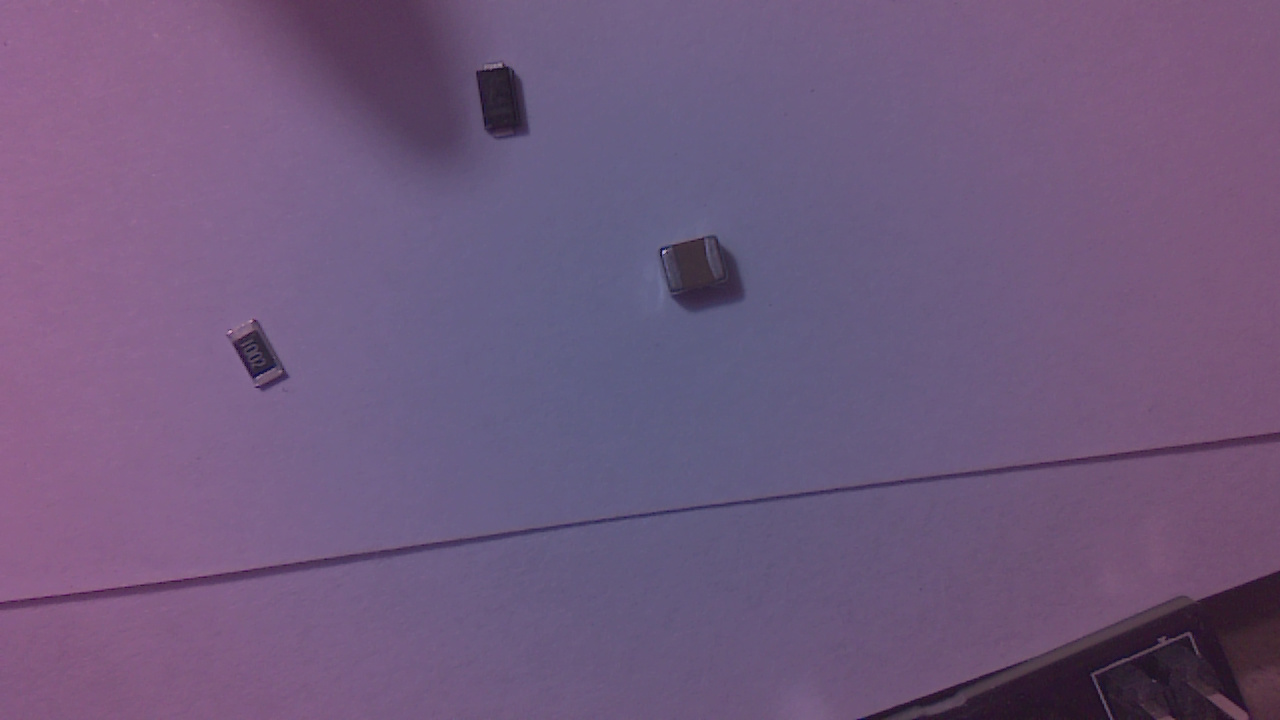Condensator: (665, 242, 736, 304)
Diode: (477, 67, 528, 145)
Resistor: (227, 322, 299, 398)
